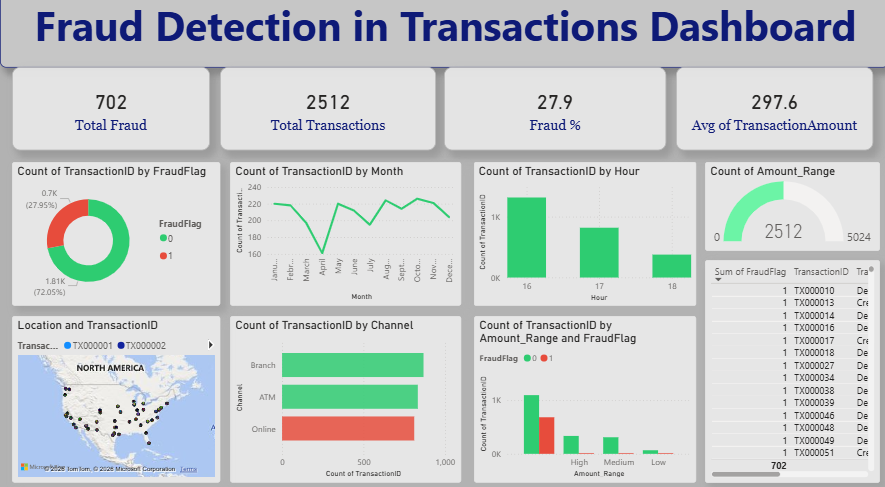

What the dashboard file says about the page in this screenshot:
{"tool":"powerbi","page":{"name":"Page 1","canvas":[1280,720],"ordinal":0},"visuals":[{"type":"textbox","box":[0,0,1280,105.8],"z":0},{"type":"card","fields":{"Values":["updated_bank_transactions_data.Total Fraud"]},"box":[17.3,105.1,285.1,119.5],"z":1000},{"type":"card","fields":{"Values":["updated_bank_transactions_data.Total Transactions"]},"box":[316.8,105.1,311,119.5],"z":2000},{"type":"card","fields":{"Values":["updated_bank_transactions_data.Fraud %"]},"box":[639.4,105.1,319.7,119.5],"z":3000},{"type":"card","fields":{"Values":["Avg(updated_bank_transactions_data.TransactionAmount)"]},"box":[973.4,105.1,283.7,119.5],"z":4000},{"type":"donutChart","fields":{"Category":["updated_bank_transactions_data.FraudFlag"],"Y":["CountNonNull(updated_bank_transactions_data.TransactionID)"]},"box":[17.3,241.9,299.5,207.4],"z":5000},{"type":"lineChart","fields":{"Category":["updated_bank_transactions_data.TransactionDate.Variation.Date Hierarchy.Month","updated_bank_transactions_data.TransactionDate.Variation.Date Hierarchy.Day"],"Y":["CountNonNull(updated_bank_transactions_data.TransactionID)"]},"box":[331.2,241.9,332.6,207.4],"z":6000},{"type":"barChart","fields":{"Y":["CountNonNull(updated_bank_transactions_data.TransactionID)"],"Category":["updated_bank_transactions_data.Channel"]},"box":[331.2,463.7,332.6,240.5],"z":7000},{"type":"map","fields":{"Category":["updated_bank_transactions_data.Location"],"Series":["updated_bank_transactions_data.TransactionID"]},"box":[17.3,463.7,299.5,240.5],"z":8000},{"type":"columnChart","fields":{"Category":["updated_bank_transactions_data.Hour"],"Y":["CountNonNull(updated_bank_transactions_data.TransactionID)"]},"box":[682.6,241.9,319.7,207.4],"z":9000},{"type":"clusteredColumnChart","fields":{"Category":["updated_bank_transactions_data.Amount_Range"],"Y":["CountNonNull(updated_bank_transactions_data.TransactionID)"],"Series":["updated_bank_transactions_data.FraudFlag"]},"box":[682.6,463.7,319.7,240.5],"z":10000},{"type":"gauge","fields":{"Y":["CountNonNull(updated_bank_transactions_data.Amount_Range)"]},"box":[1015.2,241.9,252,128.2],"z":11000},{"type":"tableEx","fields":{"Values":["Sum(updated_bank_transactions_data.FraudFlag)","updated_bank_transactions_data.TransactionID","updated_bank_transactions_data.TransactionType","updated_bank_transactions_data.Channel","Sum(updated_bank_transactions_data.LoginAttempts)"]},"box":[1015.2,383,252,321.1],"z":12000}]}

Visuals, with their boxes in screenshot pixels (x1, y1, x2, y2), scaled from the page's 1280x720 canvas onto the 885x487 screenshot:
textbox: left=0, top=0, right=884, bottom=72
card - updated_bank_transactions_data.Total Fraud: left=12, top=71, right=209, bottom=152
card - updated_bank_transactions_data.Total Transactions: left=219, top=71, right=434, bottom=152
card - updated_bank_transactions_data.Fraud %: left=442, top=71, right=663, bottom=152
card - Avg(updated_bank_transactions_data.TransactionAmount): left=673, top=71, right=869, bottom=152
donutChart - updated_bank_transactions_data.FraudFlag x CountNonNull(updated_bank_transactions_data.TransactionID): left=12, top=164, right=219, bottom=304
lineChart - updated_bank_transactions_data.TransactionDate.Variation.Date Hierarchy.Month x updated_bank_transactions_data.TransactionDate.Variation.Date Hierarchy.Day: left=229, top=164, right=459, bottom=304
barChart - CountNonNull(updated_bank_transactions_data.TransactionID) x updated_bank_transactions_data.Channel: left=229, top=314, right=459, bottom=476
map - updated_bank_transactions_data.Location x updated_bank_transactions_data.TransactionID: left=12, top=314, right=219, bottom=476
columnChart - updated_bank_transactions_data.Hour x CountNonNull(updated_bank_transactions_data.TransactionID): left=472, top=164, right=693, bottom=304
clusteredColumnChart - updated_bank_transactions_data.Amount_Range x CountNonNull(updated_bank_transactions_data.TransactionID): left=472, top=314, right=693, bottom=476
gauge - CountNonNull(updated_bank_transactions_data.Amount_Range): left=702, top=164, right=876, bottom=250
tableEx - Sum(updated_bank_transactions_data.FraudFlag) x updated_bank_transactions_data.TransactionID: left=702, top=259, right=876, bottom=476
